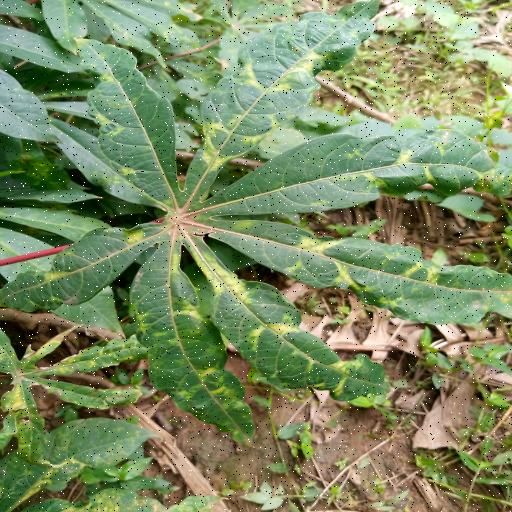Cassava_Mosaic: (6, 0, 512, 445)
